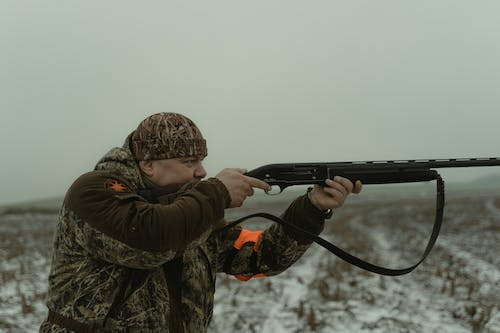gun: (135, 155, 500, 205)
